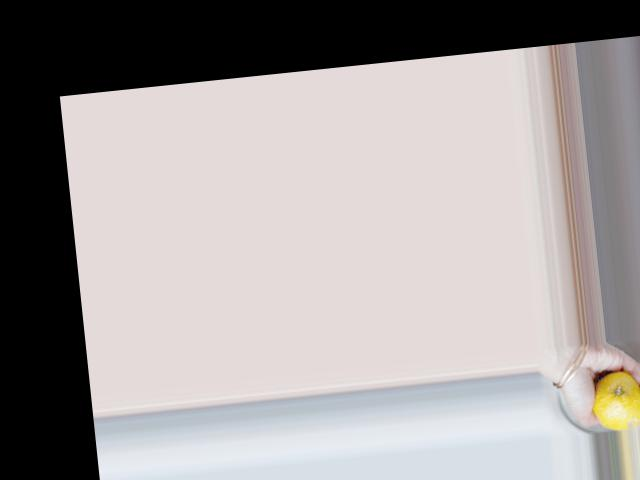lemon: (592, 368, 640, 430)
